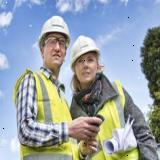Helmet: (70, 35, 102, 72), (38, 15, 71, 49)
Vest: (14, 68, 78, 160), (71, 77, 138, 160)
